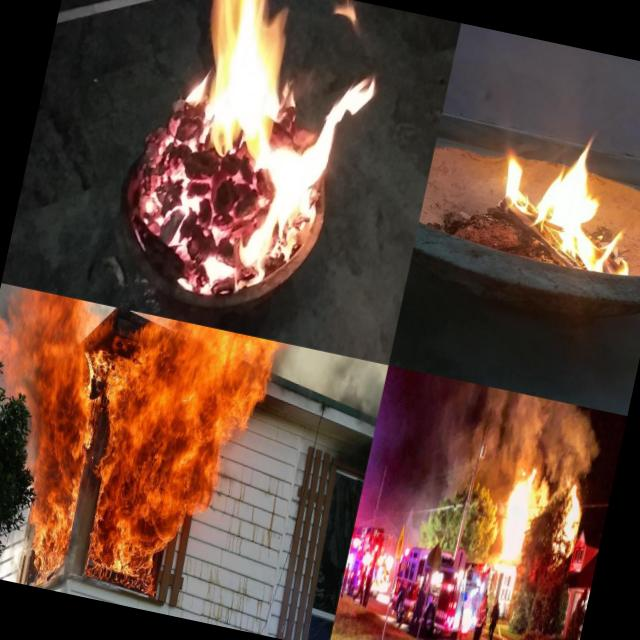fire: (0, 283, 297, 611), (143, 0, 394, 328), (484, 126, 640, 276), (116, 82, 186, 258), (493, 463, 539, 568), (554, 476, 590, 554)
smoke: (429, 377, 614, 482), (472, 457, 514, 502), (532, 470, 570, 518), (438, 449, 476, 494)
